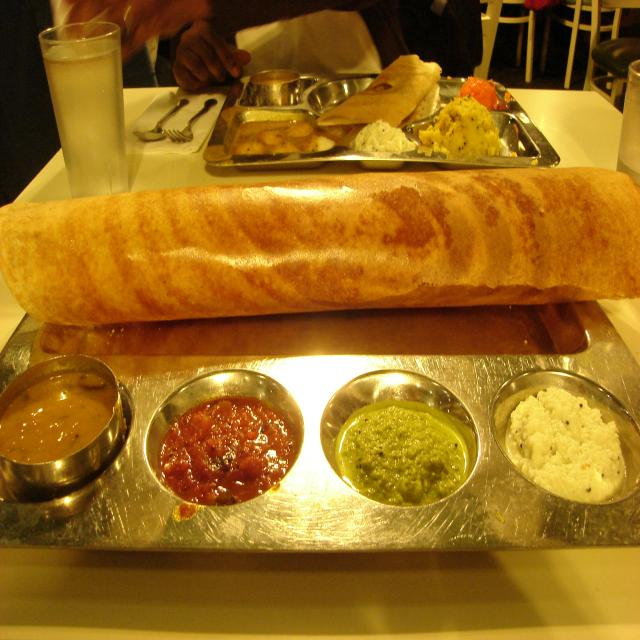plain dosa: (3, 183, 640, 325), (312, 47, 446, 136)
